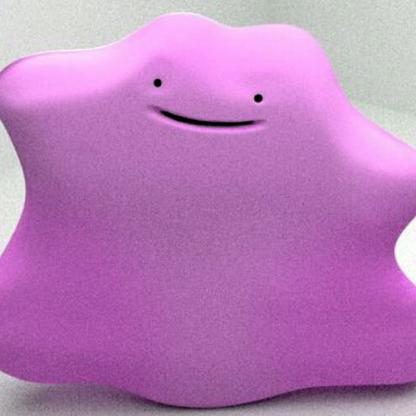Ditto: (1, 10, 416, 412)
